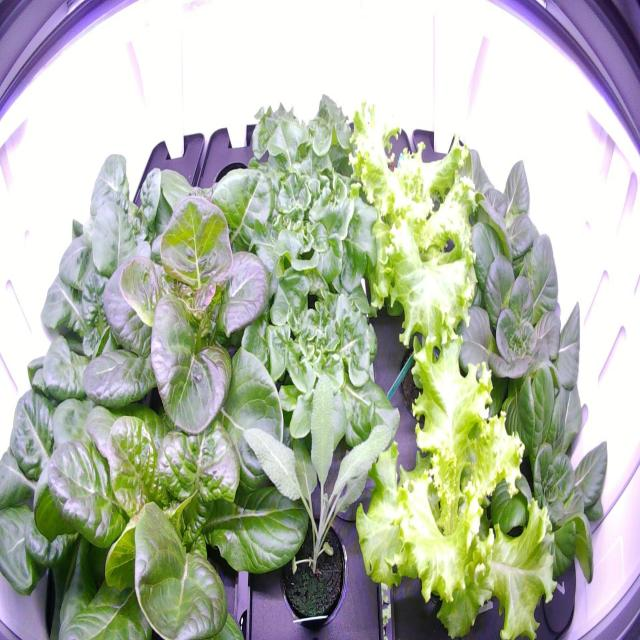young: (42, 358, 311, 636), (76, 171, 293, 496), (0, 336, 155, 635), (452, 359, 614, 612), (35, 149, 183, 364), (443, 205, 587, 404), (425, 127, 547, 267)
